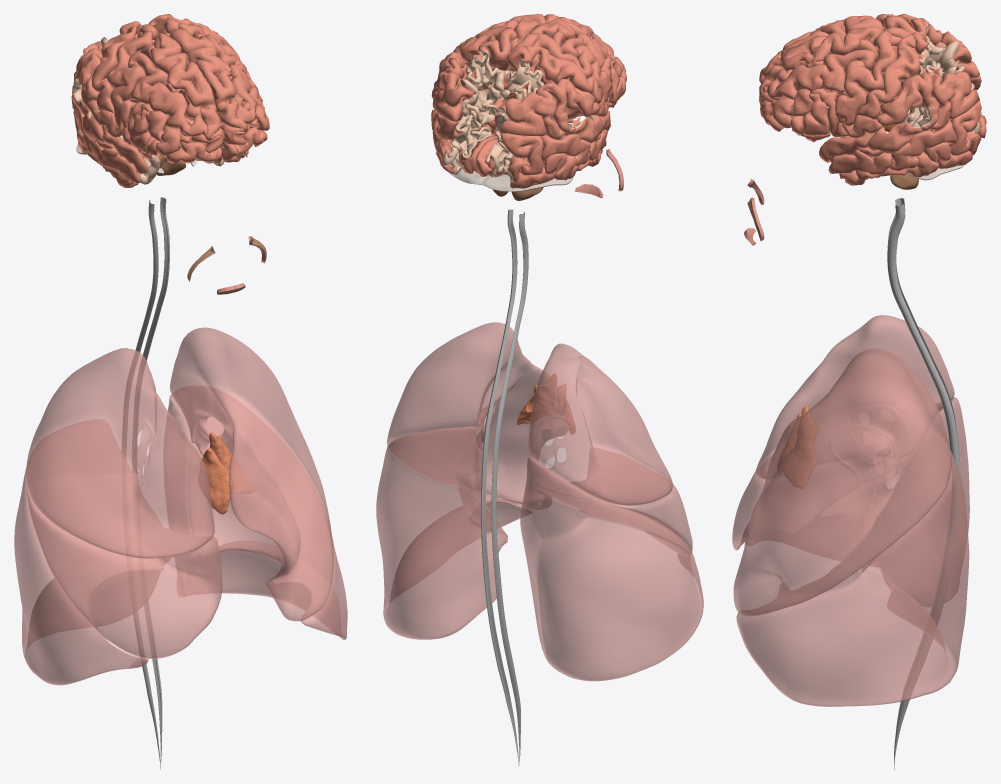
File: brain.glb
3 renders of one model, left to right at view 1: azimuth 30°, elevation 25°; view 2: azimuth 150°, elevation 25°; view 3: azimuth 270°, elevation 25°, orthographic.
Visible parts, largest first — view 1: br0105, br0027, br0104, br0049, br0028, br0048, br0101, br0100, br0007, br0064, br0066, br0047 (+8 smaller); view 2: br0028, br0027, br0104, br0105, br0049, br0064, br0007, br0004, br0111, br0063, br0003, br0066 (+15 smaller); view 3: br0027, br0104, br0105, br0028, br0049, br0047, br0007, br0064, br0065, br0050, br0100, br0110 (+15 smaller).
Part boxes in pixels (bbox=[...]): br0105: bbox=[26, 348, 214, 558]; br0027: bbox=[164, 386, 347, 639]; br0104: bbox=[170, 327, 333, 621]; br0049: bbox=[26, 473, 222, 658]; br0028: bbox=[14, 419, 170, 685]; br0048: bbox=[128, 51, 207, 155]; br0101: bbox=[150, 33, 224, 142]; br0100: bbox=[163, 29, 247, 146]; br0007: bbox=[122, 199, 169, 769]; br0064: bbox=[122, 197, 168, 765]; br0066: bbox=[107, 30, 153, 128]; br0047: bbox=[204, 34, 269, 130]; br0028: bbox=[520, 456, 703, 681]; br0027: bbox=[376, 426, 531, 639]; br0104: bbox=[387, 322, 567, 509]; br0105: bbox=[528, 343, 672, 505]; br0049: bbox=[535, 447, 692, 554]; br0064: bbox=[481, 210, 527, 765]; br0007: bbox=[482, 209, 528, 765]; br0004: bbox=[500, 81, 569, 139]; br0111: bbox=[543, 79, 600, 134]; br0063: bbox=[526, 46, 602, 103]; br0003: bbox=[432, 58, 473, 121]; br0066: bbox=[533, 33, 612, 102]; br0027: bbox=[736, 430, 969, 706]; br0104: bbox=[733, 348, 951, 616]; br0105: bbox=[755, 315, 954, 479]; br0028: bbox=[745, 397, 969, 606]; br0049: bbox=[732, 455, 903, 550]; br0047: bbox=[762, 49, 878, 128]; br0007: bbox=[887, 198, 955, 769]; br0064: bbox=[892, 198, 960, 763]; br0065: bbox=[835, 30, 901, 126]; br0050: bbox=[828, 120, 956, 174]; br0100: bbox=[759, 27, 882, 95]; br0110: bbox=[877, 72, 939, 131].
Bounding box in the file's own units: 0.261 × 0.6449 × 0.1988.
